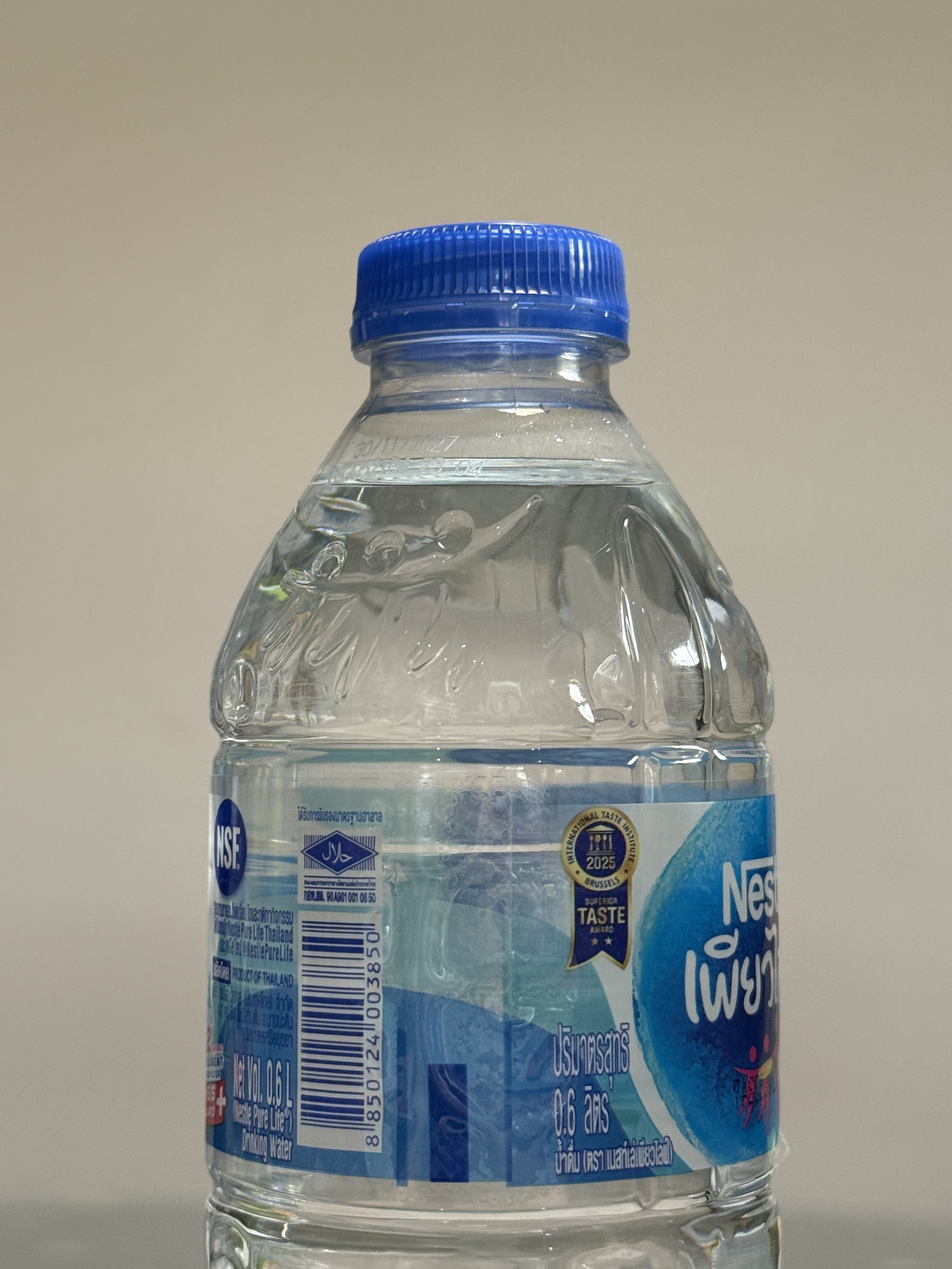closed_cap: (346, 217, 634, 362)
